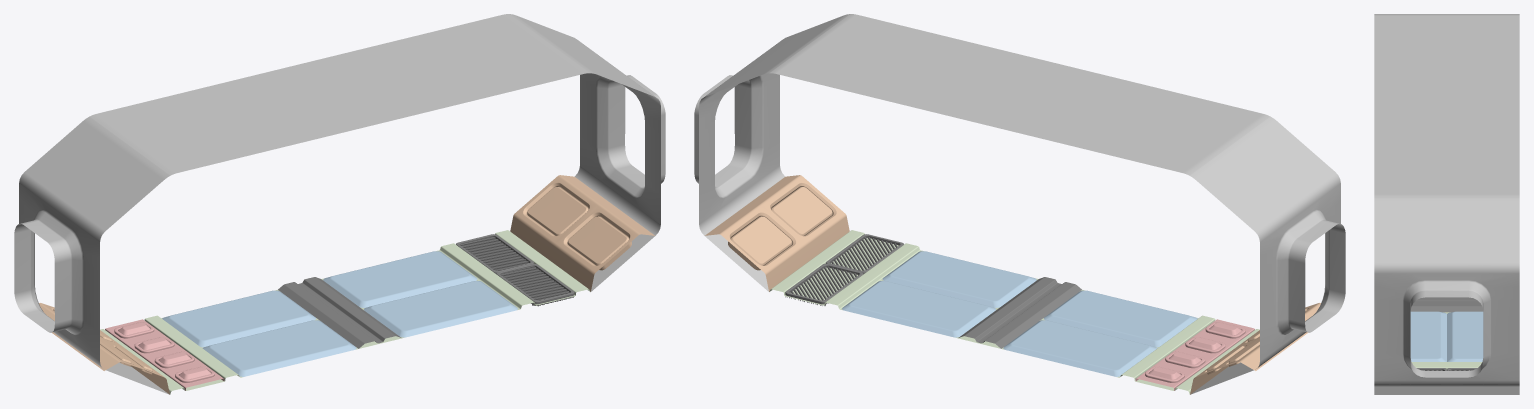
File: MOD_2.fbx
3 views of the same model, side by side, from view 1: azimuth 30°, elevation 25°; view 2: azimuth 150°, elevation 25°; view 3: azimuth 270°, elevation 25° (orthographic). The views are drawn at different scales.
Parts seen in each view (by area): view 1: MOD_2; view 2: MOD_2; view 3: MOD_2.
Boxes of the visible parts, x1,y1,x2,y2 form: MOD_2: (14, 14, 665, 394); MOD_2: (694, 14, 1345, 394); MOD_2: (1374, 14, 1519, 394).
Size of the model in its own units: 8.72 by 3.03 by 2.
